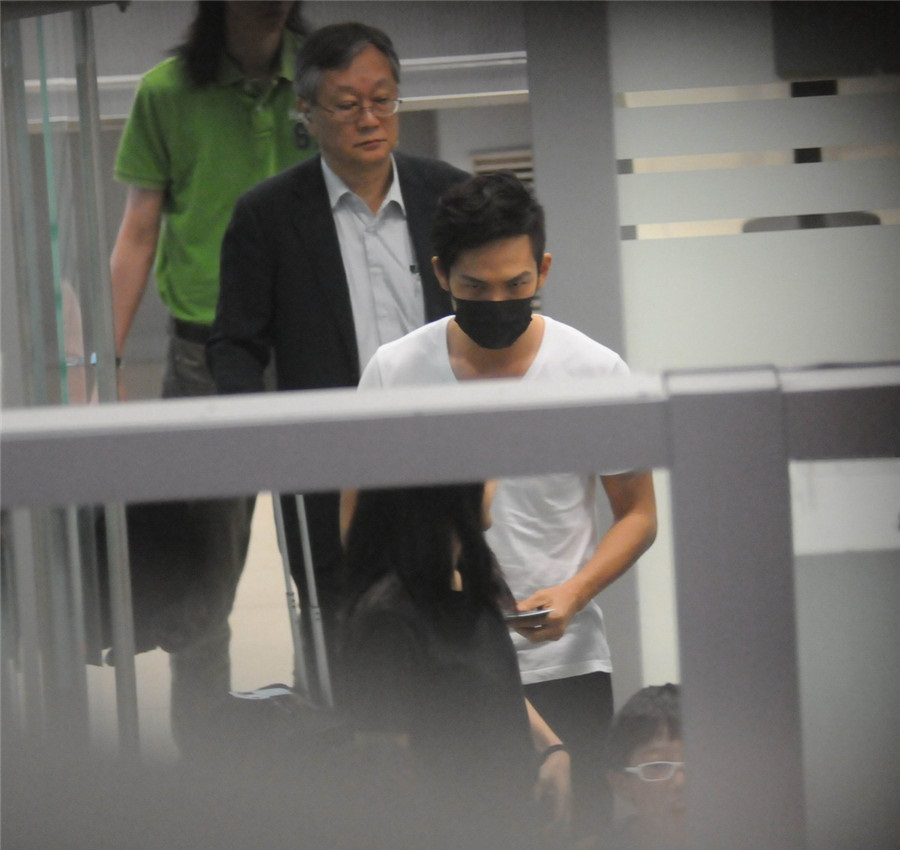face: (320, 53, 400, 162)
face_mask: (453, 239, 538, 344)
